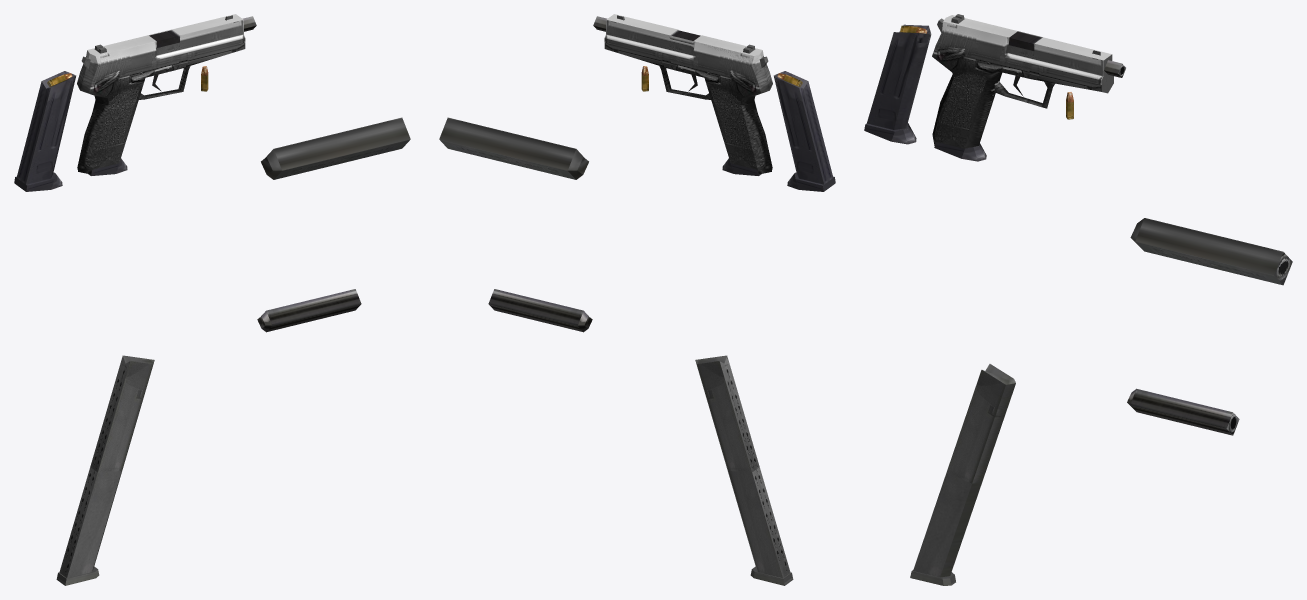
Rendered from gun.glb.
The picture shows the model from 3 angles, left to right: view 1: azimuth 30°, elevation 25°; view 2: azimuth 150°, elevation 25°; view 3: azimuth 330°, elevation 25°; orthographic projection. The views are drawn at different scales.
Visible parts, largest first — view 1: GlockMagazineLong, USPBody, USPSlide, Supressor.001, USPMagFull, Supressor; view 2: GlockMagazineLong, USPBody, USPSlide, Supressor.001, USPMagFull, Supressor; view 3: GlockMagazineLong, USPBody, USPSlide, Supressor.001, USPMagFull, Supressor, USPMag.
Boxes of the visible parts, left/top/right/bottom form: GlockMagazineLong: left=56, top=355, right=154, bottom=585; USPBody: left=77, top=16, right=256, bottom=174; USPSlide: left=81, top=14, right=245, bottom=79; Supressor.001: left=261, top=117, right=410, bottom=179; USPMagFull: left=14, top=71, right=76, bottom=191; Supressor: left=257, top=289, right=361, bottom=332; GlockMagazineLong: left=695, top=355, right=793, bottom=585; USPBody: left=593, top=16, right=772, bottom=174; USPSlide: left=604, top=14, right=768, bottom=79; Supressor.001: left=439, top=117, right=588, bottom=179; USPMagFull: left=773, top=71, right=835, bottom=191; Supressor: left=488, top=289, right=592, bottom=332; GlockMagazineLong: left=910, top=364, right=1015, bottom=585; USPBody: left=932, top=31, right=1125, bottom=148; USPSlide: left=936, top=14, right=1113, bottom=93; Supressor.001: left=1130, top=218, right=1292, bottom=285; USPMagFull: left=864, top=24, right=931, bottom=144; Supressor: left=1127, top=388, right=1239, bottom=435; USPMag: left=934, top=142, right=986, bottom=161.
Bounding box in the file's own units: 4.59 × 6.04 × 0.3586.
Materials: 10 (10 with a texture image).
